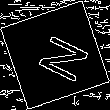N_NW: (23, 26, 87, 84)
